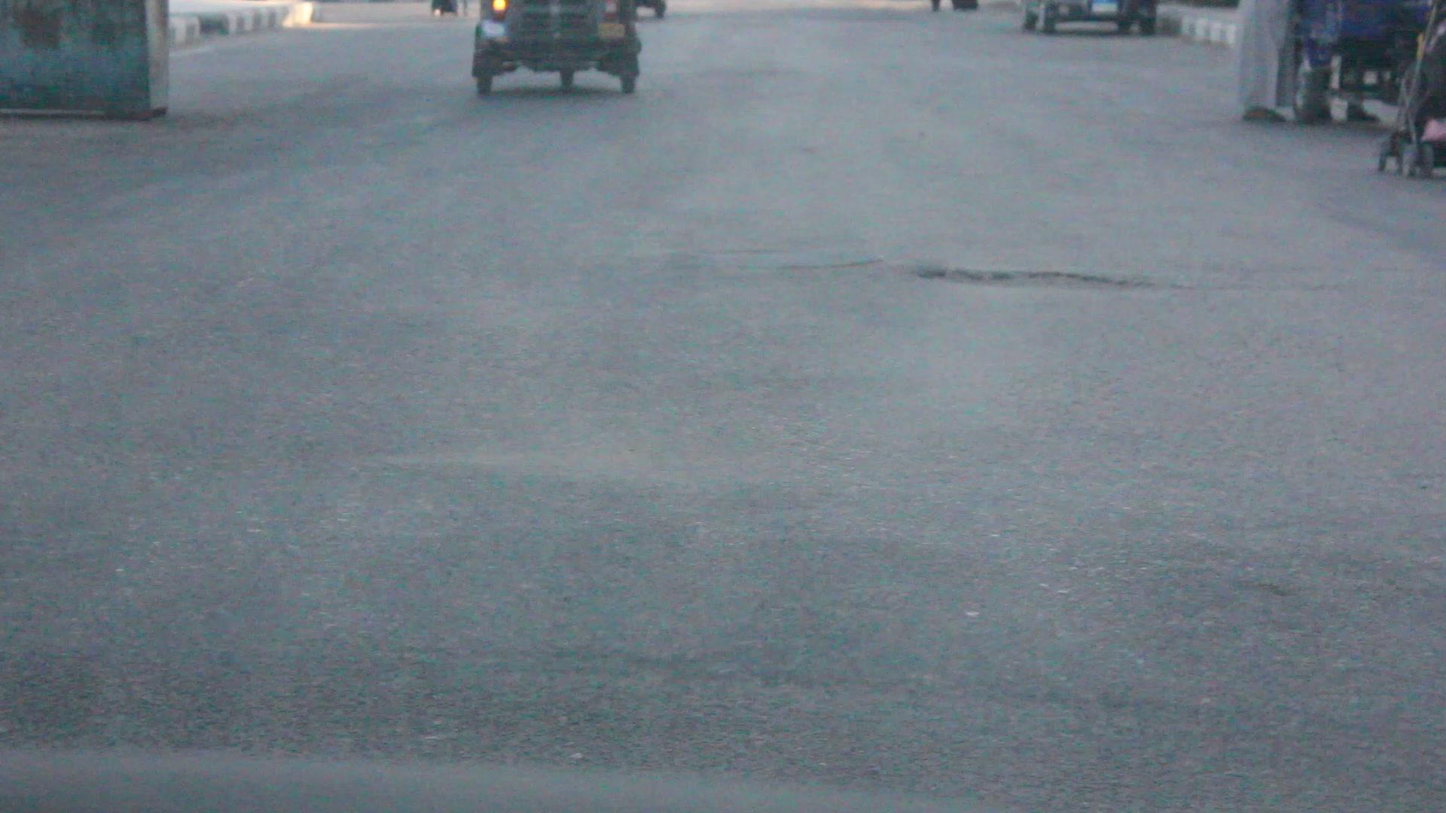Pothole: (908, 250, 1196, 320)
